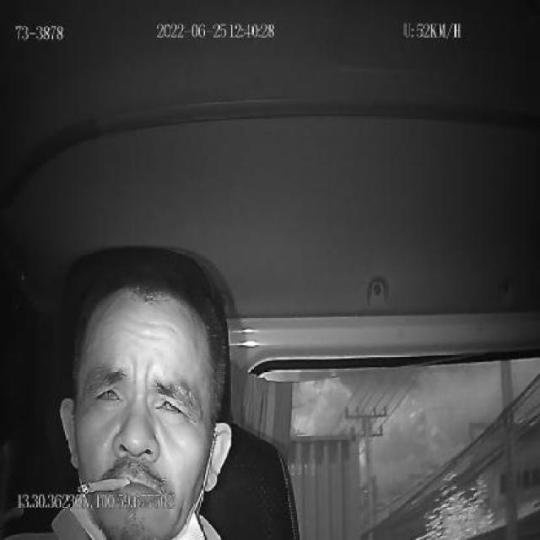smoking: (80, 475, 130, 499)
